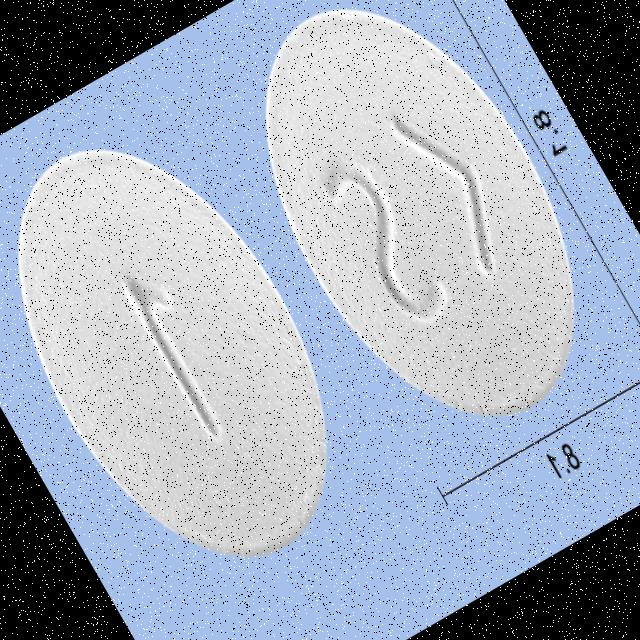Levofxa: (198, 0, 640, 472), (0, 95, 391, 608)
